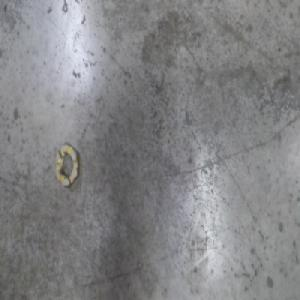Nut: (52, 142, 80, 189)
